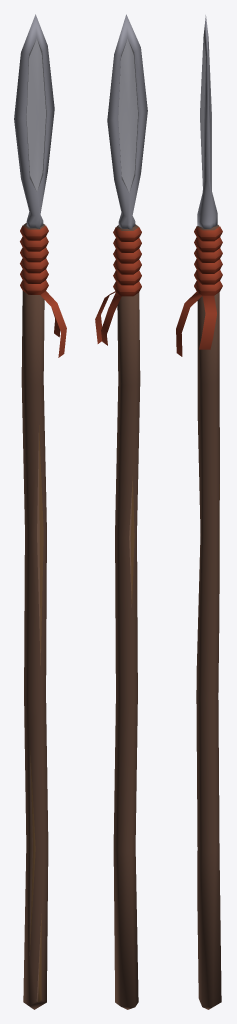
File: Spear_01.glb
3 views of the same model, side by side, from view 1: azimuth 30°, elevation 25°; view 2: azimuth 210°, elevation 25°; view 3: azimuth 270°, elevation 25° (orthographic).
Parts seen in each view (by area): view 1: Spear_01; view 2: Spear_01; view 3: Spear_01.
Boxes of the visible parts, <box> form: Spear_01: <box>14,14,66,1009</box>; Spear_01: <box>95,14,147,1009</box>; Spear_01: <box>176,15,222,1009</box>.
Size of what is drawn, in the model's own units: 0.0895 by 1.96 by 0.0838.
1 material, 1 textured.
